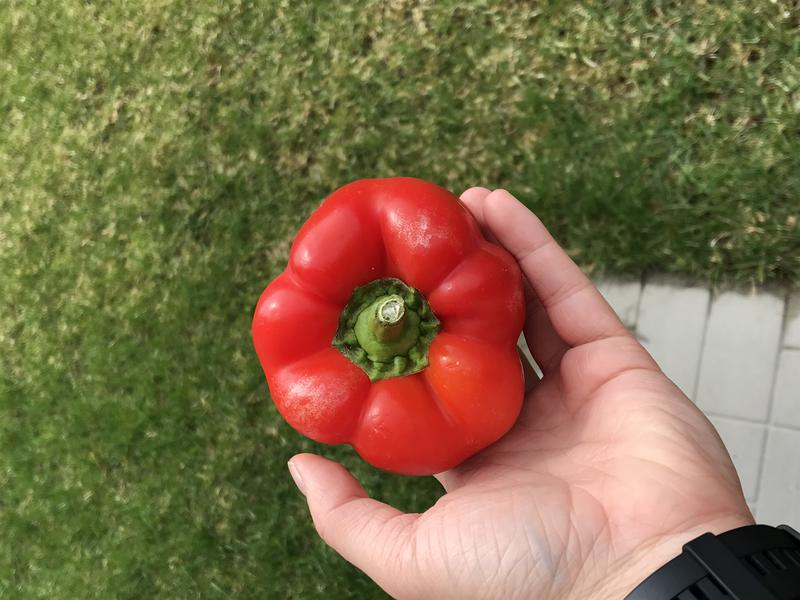red_pepper: (247, 167, 546, 482)
